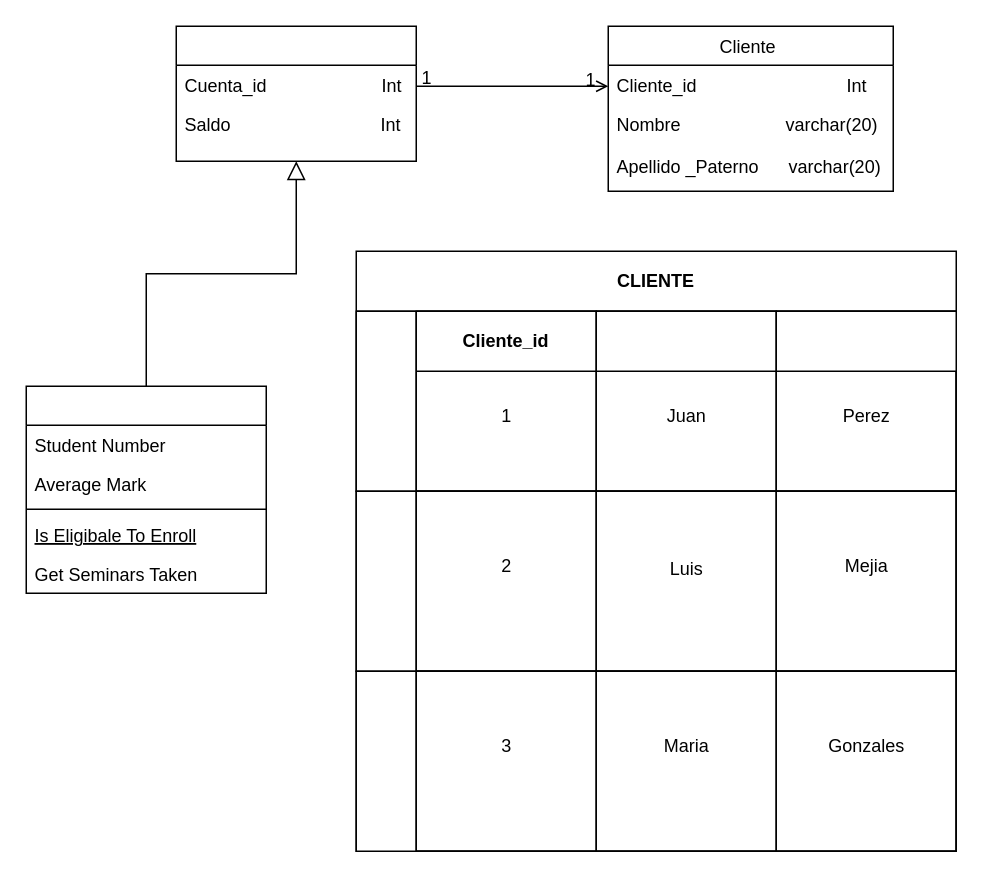
The diagram is 983 pixels wide and 878 high, and some of its shapes have lost their labels. The box of each missing label's shape, as (x1, y1, x2, y2) in pixels:
Apellido_Paterno: (775, 310, 956, 491)
Cuenta de ahorros: (175, 25, 416, 161)
Nombre: (595, 310, 776, 491)
